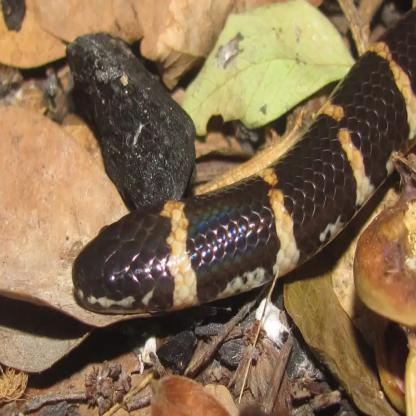Snake: (54, 155, 337, 322)
